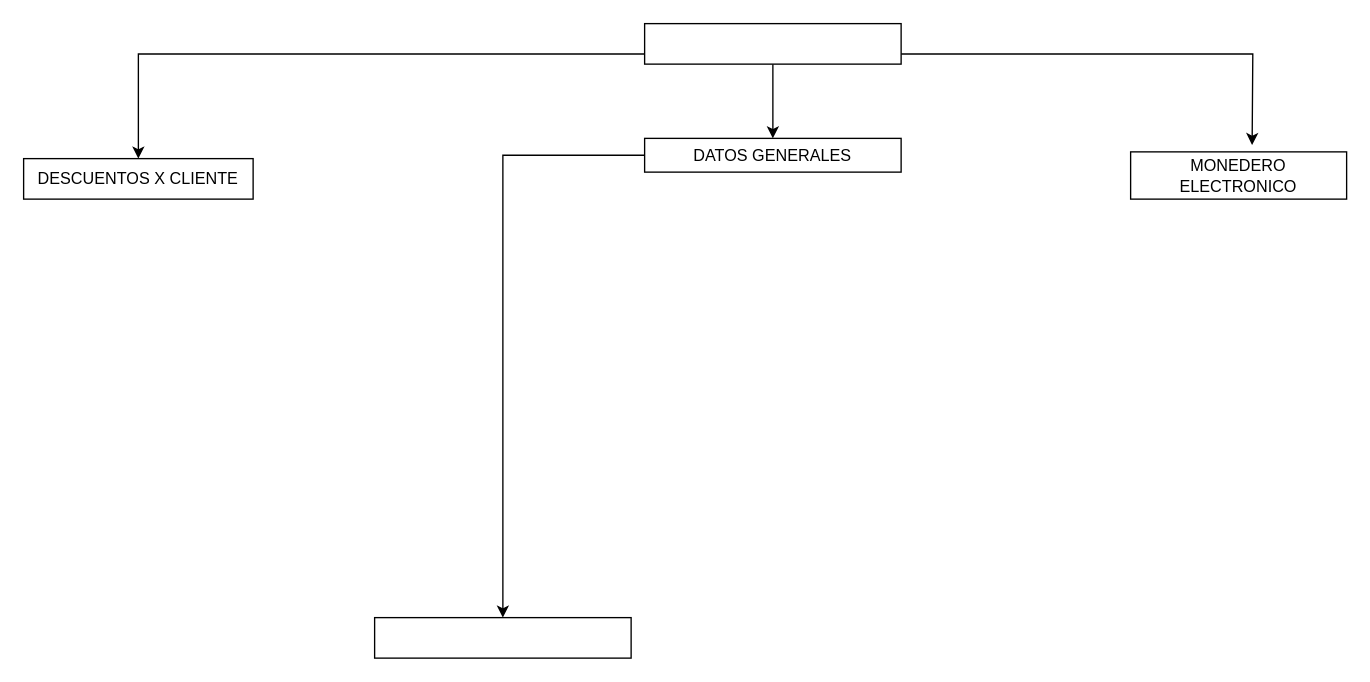
Some shapes in this 1370 by 682 pixel diagram are drawn without their labels. Each missing label, with the box of its shape:
CLIENTES: (643, 22, 901, 64)
DATOS FISCALES: (373, 616, 631, 658)
